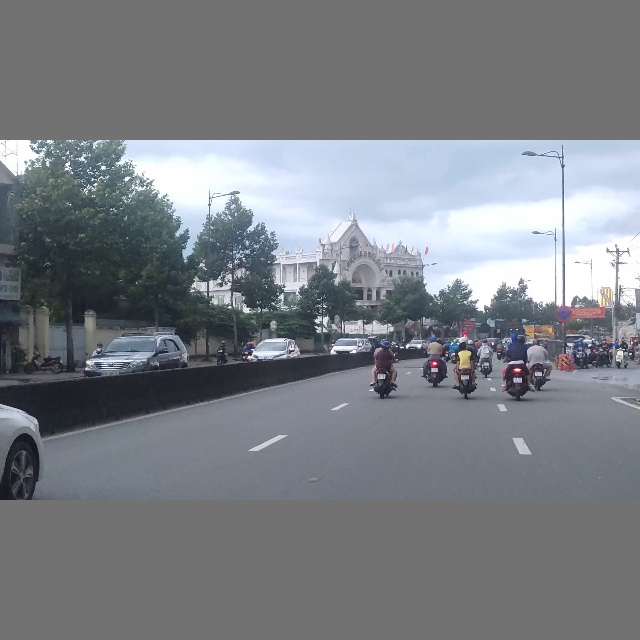P.130: (556, 306, 571, 321)
